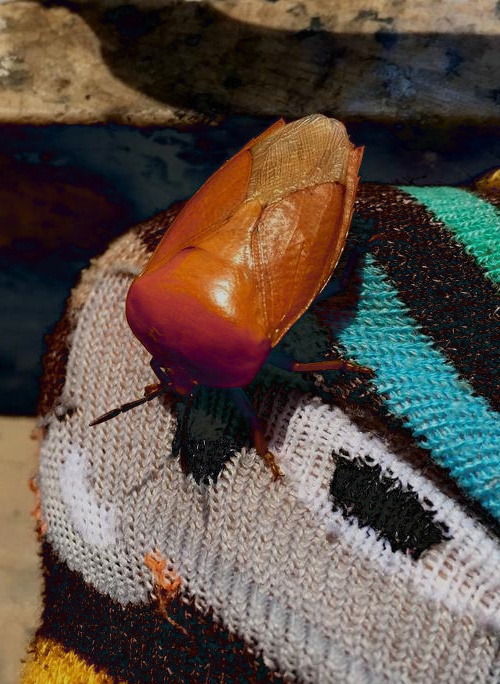Stink_Bug: (120, 93, 361, 427)
